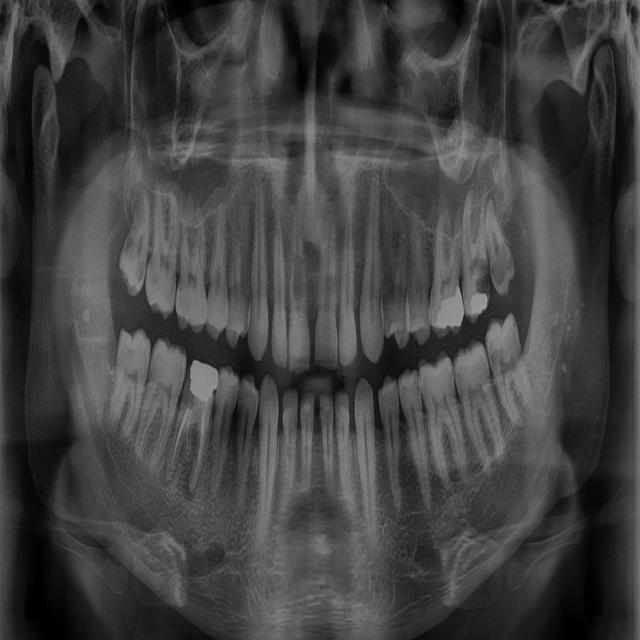Caries: (491, 243, 513, 293), (476, 258, 489, 302), (487, 338, 504, 368), (293, 252, 302, 300), (136, 260, 146, 285)
Filling: (186, 361, 219, 406), (433, 286, 464, 329), (408, 312, 428, 336), (470, 291, 487, 313), (387, 318, 405, 336)
Periapical lesion: (181, 464, 200, 501), (159, 452, 176, 489), (486, 191, 497, 215), (464, 188, 476, 207), (515, 415, 529, 431)
Root Canal Treatment: (169, 408, 191, 469), (192, 414, 206, 481)
